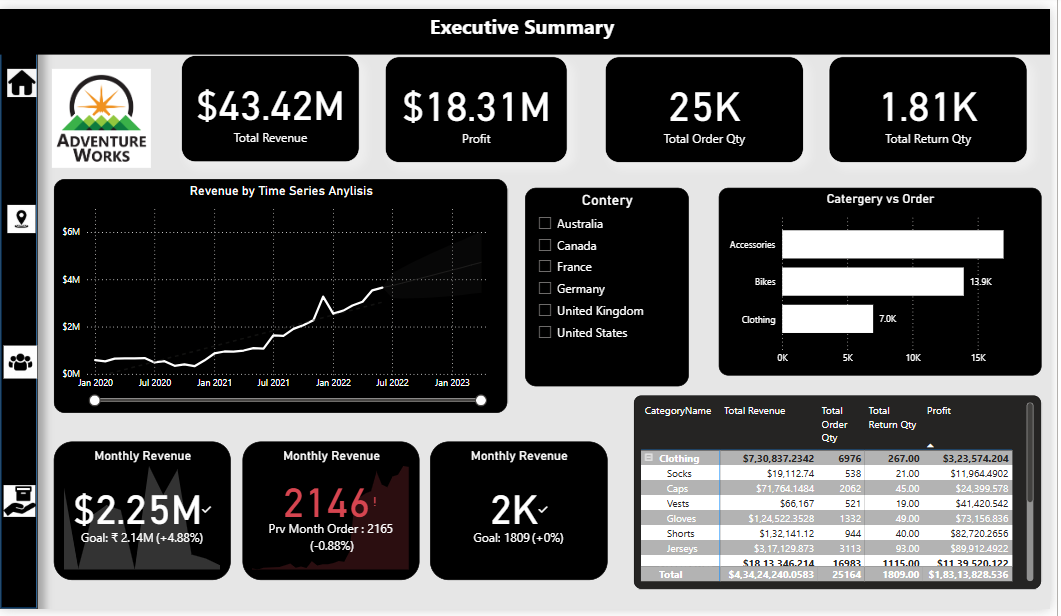

What the dashboard file says about the page in this screenshot:
{"tool":"powerbi","page":{"name":"Exictive Summery","canvas":[1400,800],"ordinal":0},"visuals":[{"type":"actionButton","box":[0,0,100,40],"z":0},{"type":"shape","box":[0,0,50.3,800.3],"z":1000},{"type":"image","box":[50,75,170,141.7],"z":2000},{"type":"card","fields":{"Values":["Measure Table.Total Revenue"]},"box":[241.8,61.1,237.8,142.7],"z":3000},{"type":"card","fields":{"Values":["Measure Table.Profit"]},"box":[513.3,63.3,243.3,141.7],"z":4000},{"type":"card","fields":{"Values":["Measure Table.Total Order"]},"box":[806.7,63.3,265,141.7],"z":5000},{"type":"card","fields":{"Values":["Measure Table.Total Return"]},"box":[1105,63.3,265,141.7],"z":6000},{"type":"barChart","title":"Catergery vs Order","fields":{"Y":["Measure Table.Total Order"],"Category":["Product Categories Lookup.CategoryName"]},"box":[958.3,238.3,430,250],"z":7000},{"type":"lineChart","title":" Revenue by Time Series Anylisis","fields":{"Y":["Measure Table.Total Revenue"],"Category":["Calendar Lookup.Start of Month.Variation.Date Hierarchy.Year","Calendar Lookup.Start of Month.Variation.Date Hierarchy.Month"]},"box":[71.7,226.7,605,311.7],"z":8000},{"type":"image","box":[0,74.7,58.4,47.6],"z":9000},{"type":"image","box":[5.4,250,47.6,59.8],"z":10000},{"type":"image","box":[0,437.5,54.3,65.2],"z":11000},{"type":"image","box":[0,630.4,52,52],"z":12000},{"type":"kpi","title":"Monthly Revenue ","fields":{"Goal":["Measure Table.Previous Month Revenue."],"Indicator":["Measure Table.Total Revenue"],"TrendLine":["Calendar Lookup.Month Name"]},"box":[71.7,576.7,236,185],"z":13000},{"type":"kpi","title":"Monthly Revenue ","fields":{"TrendLine":["Calendar Lookup.Start of Month"],"Indicator":["Measure Table.Total Order"],"Goal":["Measure Table.Privious Month Order"]},"box":[323.3,576.7,236,185],"z":14000},{"type":"kpi","title":"Monthly Revenue ","fields":{"TrendLine":["Calendar Lookup.Start of Month"],"Indicator":["Measure Table.Total Return"],"Goal":["Measure Table.Privious Month Return"]},"box":[573.3,576.7,236.7,185],"z":15000},{"type":"slicer","title":"Contery","fields":{"Values":["Territory Lookup.Country"]},"box":[700,238.3,218.3,265],"z":17000},{"type":"textbox","box":[0,0,1399.7,60.9],"z":18000},{"type":"pivotTable","fields":{"Rows":["Product Categories Lookup.CategoryName","Product Subcategories Lookup.SubcategoryName","Product Subcategories Lookup.SubcategoryName"],"Values":["Measure Table.Total Revenue","Measure Table.Total Order","Measure Table.Total Return Qty","Measure Table.Profit"]},"box":[845,515,543.3,258.3],"z":18001}]}

Visuals, with their boxes in screenshot pixels (x1, y1, x2, y2):
actionButton: pyautogui.locateOnScreen(0, 6, 75, 35)
shape: pyautogui.locateOnScreen(0, 6, 38, 604)
image: pyautogui.locateOnScreen(37, 62, 164, 167)
card - Measure Table.Total Revenue: pyautogui.locateOnScreen(181, 51, 358, 158)
card - Measure Table.Profit: pyautogui.locateOnScreen(384, 53, 565, 159)
card - Measure Table.Total Order: pyautogui.locateOnScreen(603, 53, 801, 159)
card - Measure Table.Total Return: pyautogui.locateOnScreen(826, 53, 1024, 159)
"Catergery vs Order" barChart: pyautogui.locateOnScreen(716, 184, 1038, 370)
" Revenue by Time Series Anylisis" lineChart: pyautogui.locateOnScreen(54, 175, 506, 408)
image: pyautogui.locateOnScreen(0, 61, 44, 97)
image: pyautogui.locateOnScreen(4, 192, 40, 237)
image: pyautogui.locateOnScreen(0, 333, 41, 381)
image: pyautogui.locateOnScreen(0, 477, 39, 516)
"Monthly Revenue " kpi: pyautogui.locateOnScreen(54, 437, 230, 575)
"Monthly Revenue " kpi: pyautogui.locateOnScreen(242, 437, 418, 575)
"Monthly Revenue " kpi: pyautogui.locateOnScreen(428, 437, 605, 575)
"Contery" slicer: pyautogui.locateOnScreen(523, 184, 686, 382)
textbox: pyautogui.locateOnScreen(0, 6, 1046, 51)
pivotTable - Product Categories Lookup.CategoryName x Product Subcategories Lookup.SubcategoryName: pyautogui.locateOnScreen(632, 390, 1038, 583)
